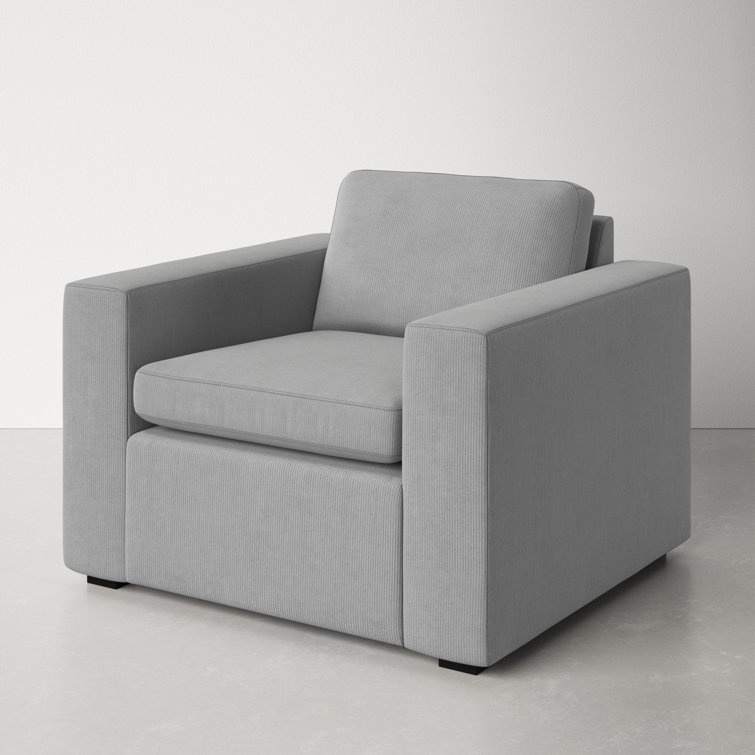obstacle: (64, 170, 689, 670)
